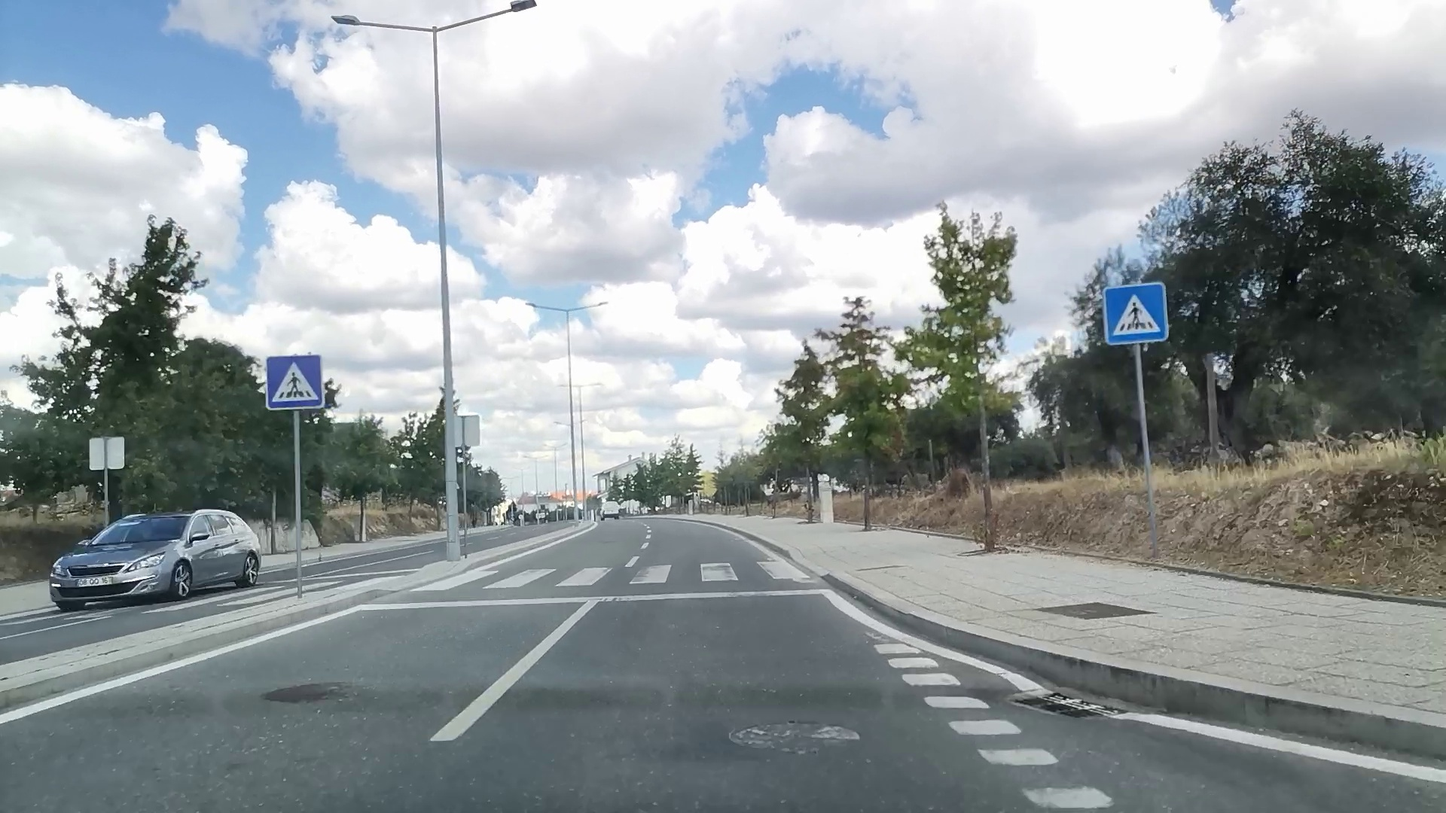Stairs: (420, 561, 811, 591)
